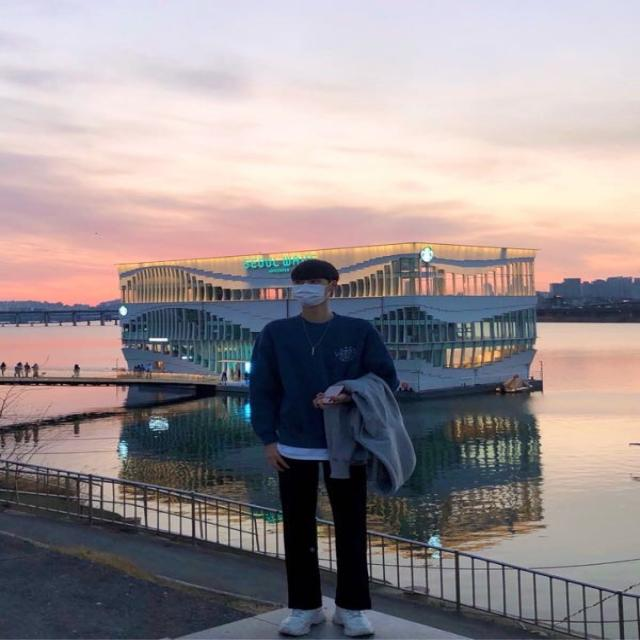mtm: (245, 313, 395, 450)
slacks: (282, 453, 378, 611)
